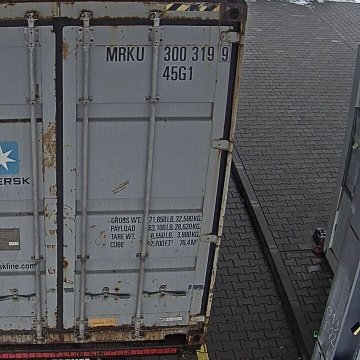serial_id: (106, 46, 229, 61)
